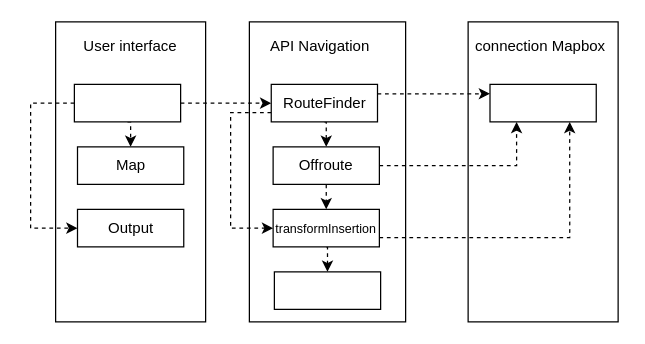
This 645x344 diagram has some shape labels left out. Here are the shapes that lost their labels. From the top down, the centre of each, then its label:
At [127,102]: "Prototyp".
At [542,102]: "IMapbox".
At [327,290]: "ProfileSwitcher".
